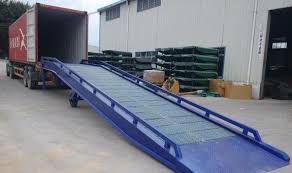Yard Ramp: (39, 56, 292, 172)
